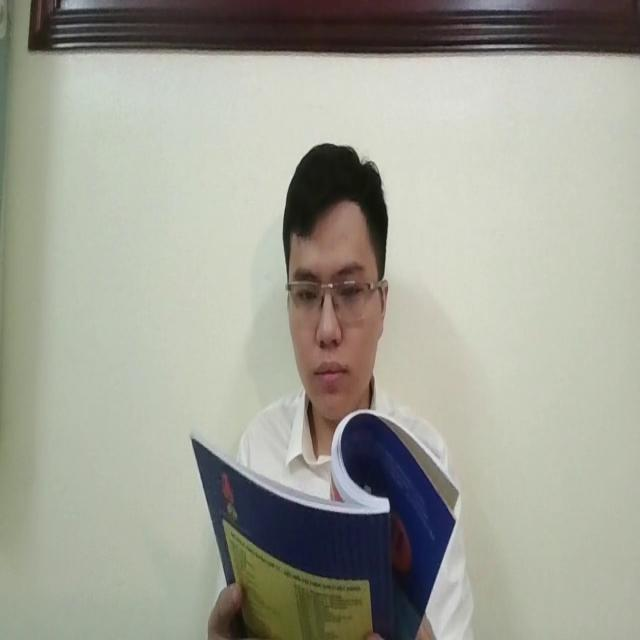book: (181, 408, 459, 640)
student: (233, 143, 470, 640)
